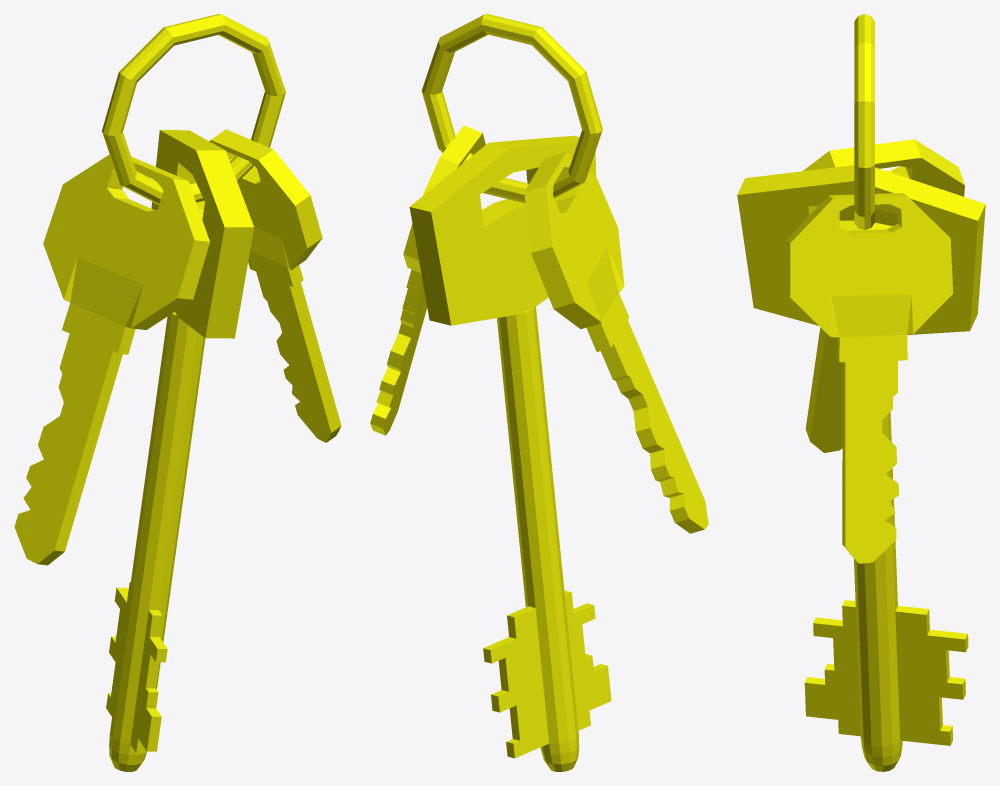
Rendered from llaves.fbx.
The picture shows the model from 3 angles, left to right: view 1: azimuth 30°, elevation 25°; view 2: azimuth 150°, elevation 25°; view 3: azimuth 270°, elevation 25°; orthographic projection. The views are drawn at different scales.
Visible parts, largest first — view 1: keys; view 2: keys; view 3: keys.
Part boxes in pixels (x1,y1,x2,y2): keys: (14, 14, 341, 771); keys: (370, 14, 708, 771); keys: (737, 14, 985, 771).
Bounding box in the file's own units: 109 × 239 × 70.06.
